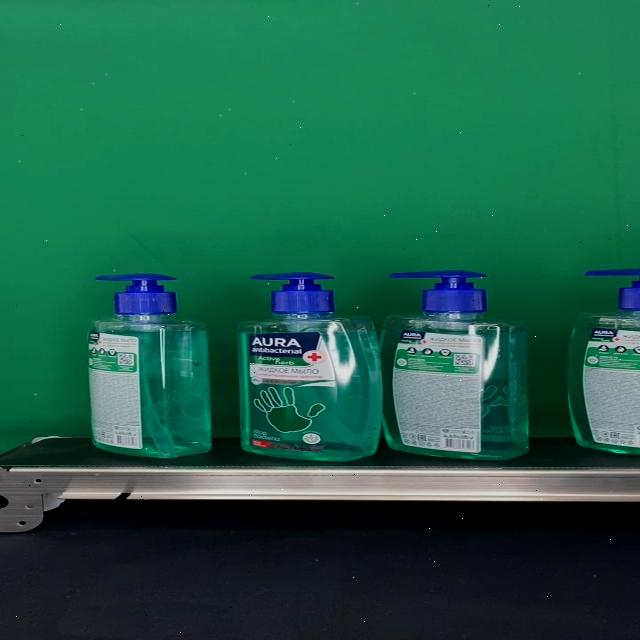Bottle: (381, 271, 530, 461), (236, 273, 382, 461), (86, 274, 212, 458)
Cap: (388, 271, 488, 314), (250, 273, 336, 315), (96, 274, 178, 315)
